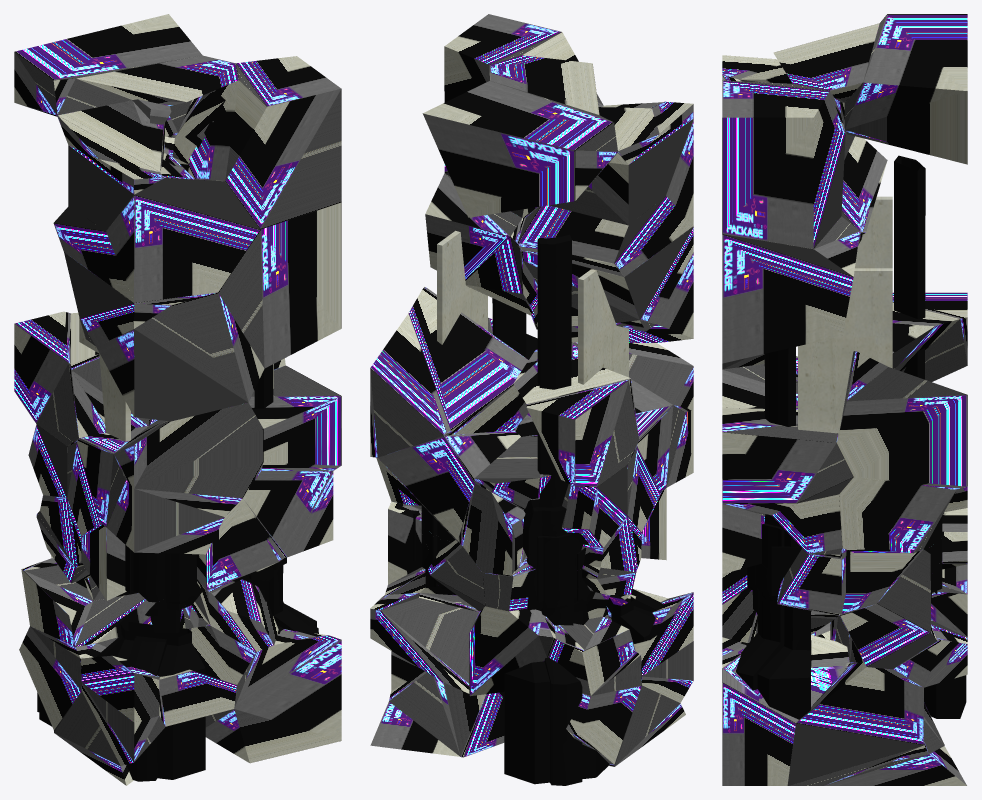
The model's file is shellyGebouw4_Broken.fbx.
3 views of the same model, side by side, from view 1: azimuth 30°, elevation 25°; view 2: azimuth 150°, elevation 25°; view 3: azimuth 270°, elevation 25° (orthographic). The views are drawn at different scales.
Visible parts, largest first — view 1: Cube.008_cell.022, Cube.008_cell.093, Cube.008_cell.044, Cube.008_cell.052, Cube.008_cell.073, Cube.008_cell.004, Cube.008_cell.069, Cube.008_cell.061, Cube.008_cell.050, Cube.008_cell.021, Cube.008_cell.074, Cube.008_cell.098 (+27 smaller); view 2: Cube.008_cell.034, Cube.008_cell.069, Cube.008_cell.018, Cube.008_cell.010, Cube.008_cell.061, Cube.008_cell.073, Cube.008_cell.066, Cube.008_cell.062, Cube.008_cell.030, Cube.008_cell.085, Cube.008_cell.031, Cube.008_cell.022 (+36 smaller); view 3: Cube.008_cell.073, Cube.008_cell.022, Cube.008_cell.069, Cube.008_cell.018, Cube.008_cell.054, Cube.008_cell.093, Cube.008_cell.050, Cube.008_cell.070, Cube.008_cell.034, Cube.008_cell.037, Cube.008_cell.040, Cube.008_cell.007 (+21 smaller).
Boxes of the visible parts, bbox=[...] form: Cube.008_cell.022: bbox=[186, 56, 341, 229]; Cube.008_cell.093: bbox=[188, 557, 341, 763]; Cube.008_cell.044: bbox=[96, 292, 264, 421]; Cube.008_cell.052: bbox=[106, 178, 260, 305]; Cube.008_cell.073: bbox=[218, 202, 341, 388]; Cube.008_cell.004: bbox=[113, 402, 263, 516]; Cube.008_cell.069: bbox=[14, 14, 202, 116]; Cube.008_cell.061: bbox=[14, 311, 105, 446]; Cube.008_cell.050: bbox=[248, 365, 341, 465]; Cube.008_cell.021: bbox=[21, 558, 155, 646]; Cube.008_cell.074: bbox=[243, 471, 333, 557]; Cube.008_cell.098: bbox=[107, 479, 224, 554]; Cube.008_cell.034: bbox=[469, 234, 599, 784]; Cube.008_cell.069: bbox=[422, 80, 617, 217]; Cube.008_cell.018: bbox=[370, 232, 487, 457]; Cube.008_cell.010: bbox=[408, 287, 528, 434]; Cube.008_cell.061: bbox=[526, 380, 638, 486]; Cube.008_cell.073: bbox=[425, 173, 537, 315]; Cube.008_cell.066: bbox=[370, 593, 479, 693]; Cube.008_cell.062: bbox=[517, 196, 693, 276]; Cube.008_cell.030: bbox=[378, 430, 520, 540]; Cube.008_cell.085: bbox=[549, 101, 693, 225]; Cube.008_cell.031: bbox=[389, 671, 504, 757]; Cube.008_cell.022: bbox=[444, 14, 603, 217]; Cube.008_cell.073: bbox=[722, 216, 892, 433]; Cube.008_cell.022: bbox=[722, 80, 845, 248]; Cube.008_cell.069: bbox=[844, 14, 967, 164]; Cube.008_cell.018: bbox=[836, 367, 967, 489]; Cube.008_cell.054: bbox=[787, 662, 924, 785]; Cube.008_cell.093: bbox=[722, 525, 849, 785]; Cube.008_cell.050: bbox=[722, 407, 853, 503]; Cube.008_cell.070: bbox=[736, 347, 811, 719]; Cube.008_cell.034: bbox=[894, 155, 967, 718]; Cube.008_cell.037: bbox=[839, 477, 955, 552]; Cube.008_cell.040: bbox=[773, 23, 879, 102]; Cube.008_cell.007: bbox=[840, 604, 937, 669].
Bounding box in the file's own units: 1161 × 3488 × 1161.
